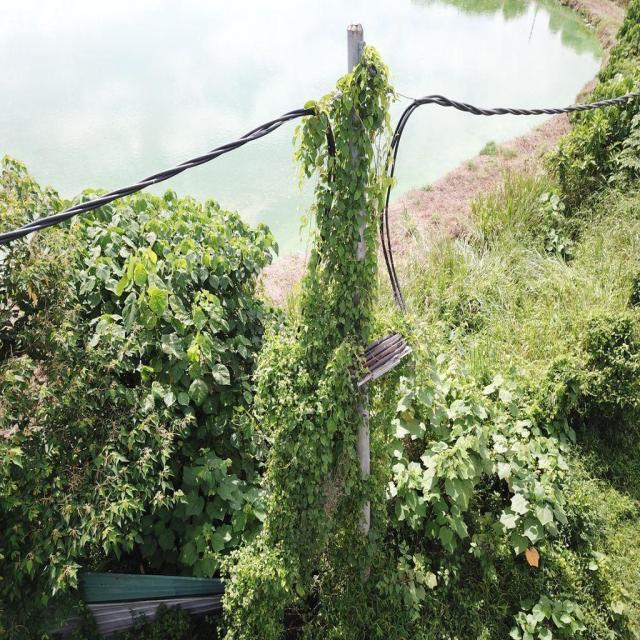critical vegetation: (257, 34, 417, 562)
